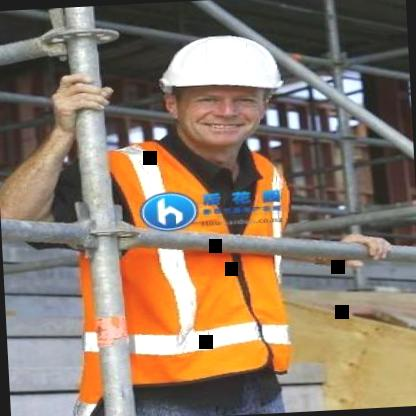helmet: (141, 20, 300, 160)
